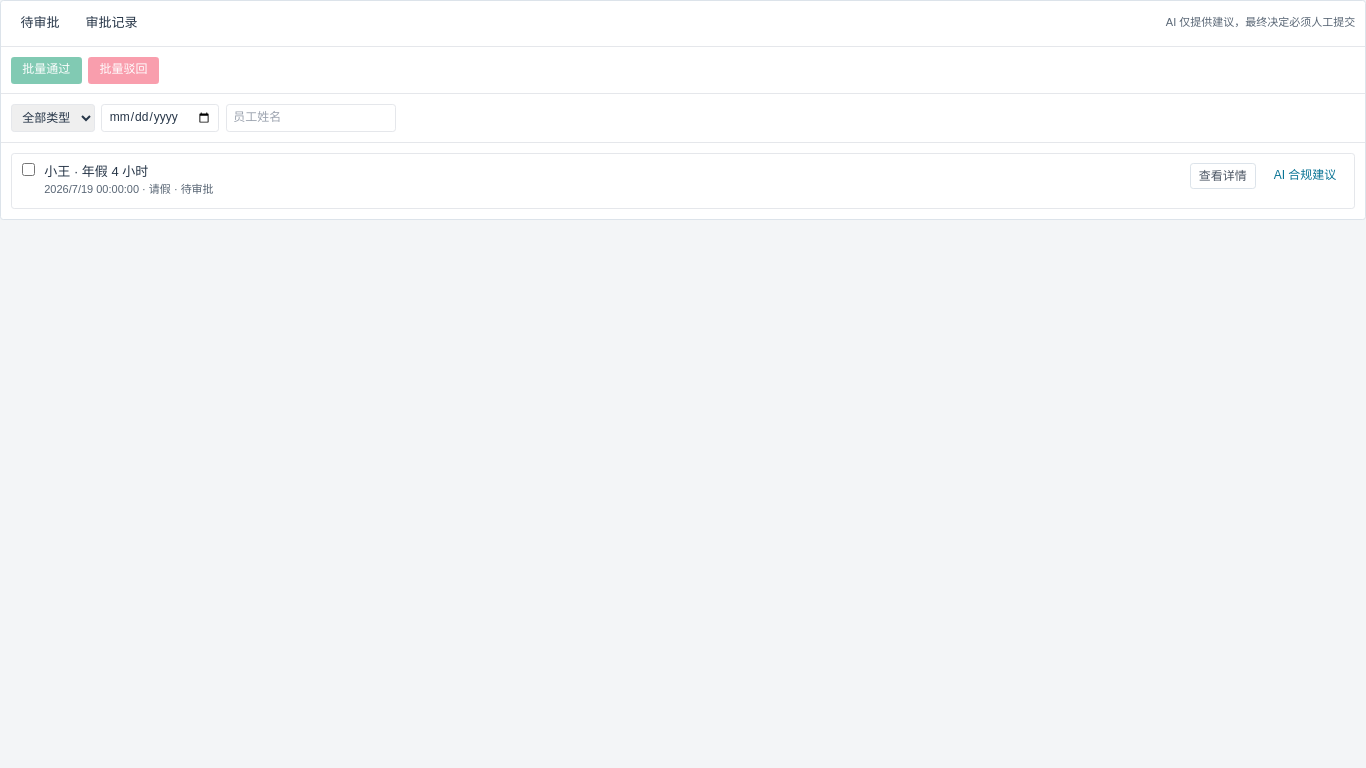
Test case: keeps historical rows immutable and requires a rejection reason dialog
Step 1. Click the tab "审批记录" → [112, 23], box [76,11,147,36]
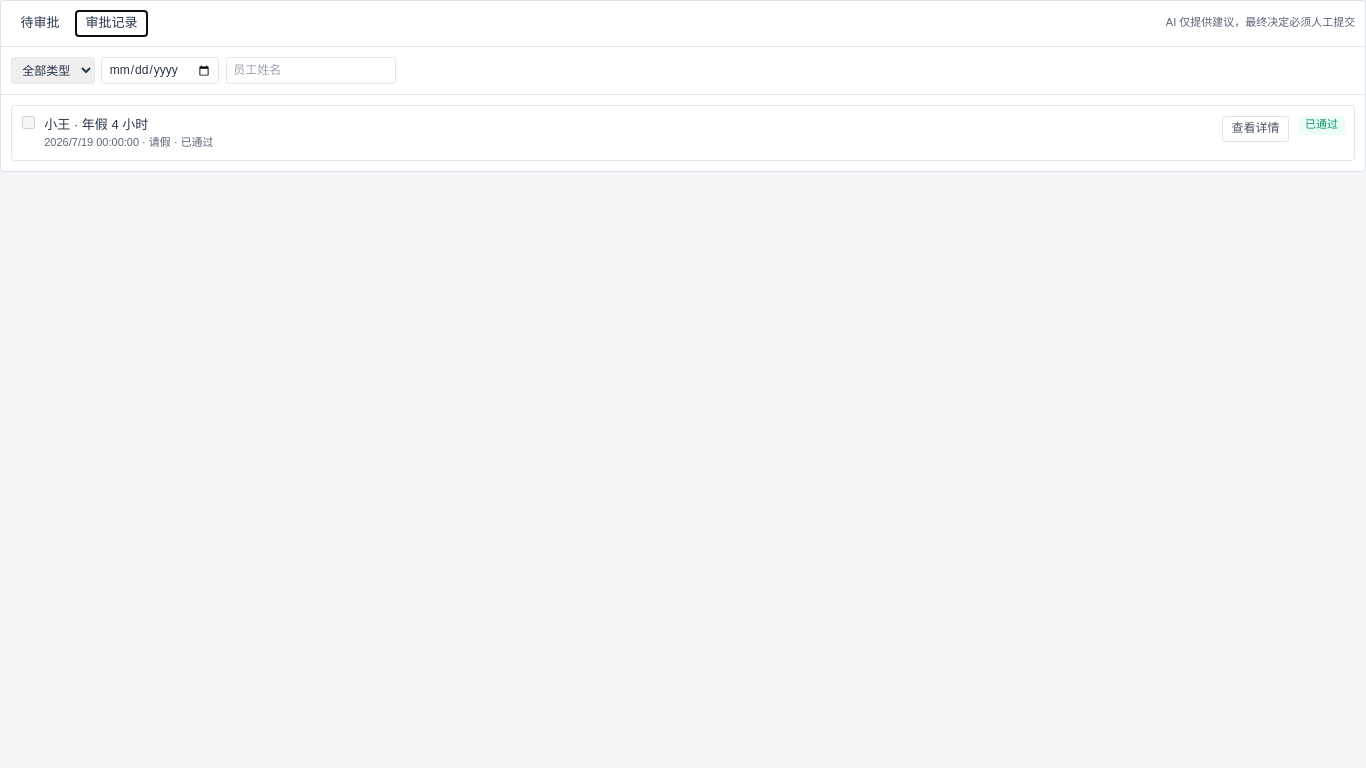
Check: the checkbox named "l2" is disabled, box [22,116,34,129]
Step 2. Click the tab "待审批" → [40, 23], box [11,11,69,36]
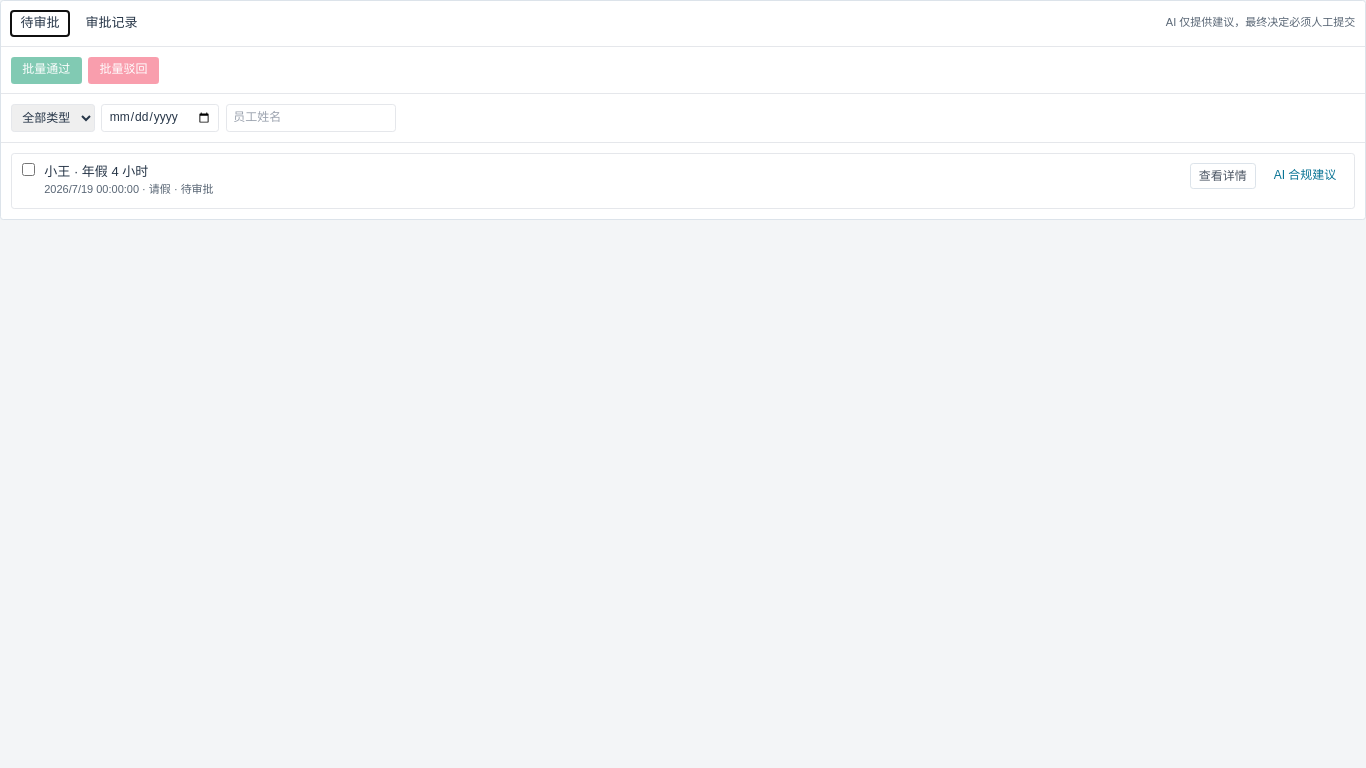
Step 3. Click the checkbox named "l1" → [28, 170], box [22,163,34,176]
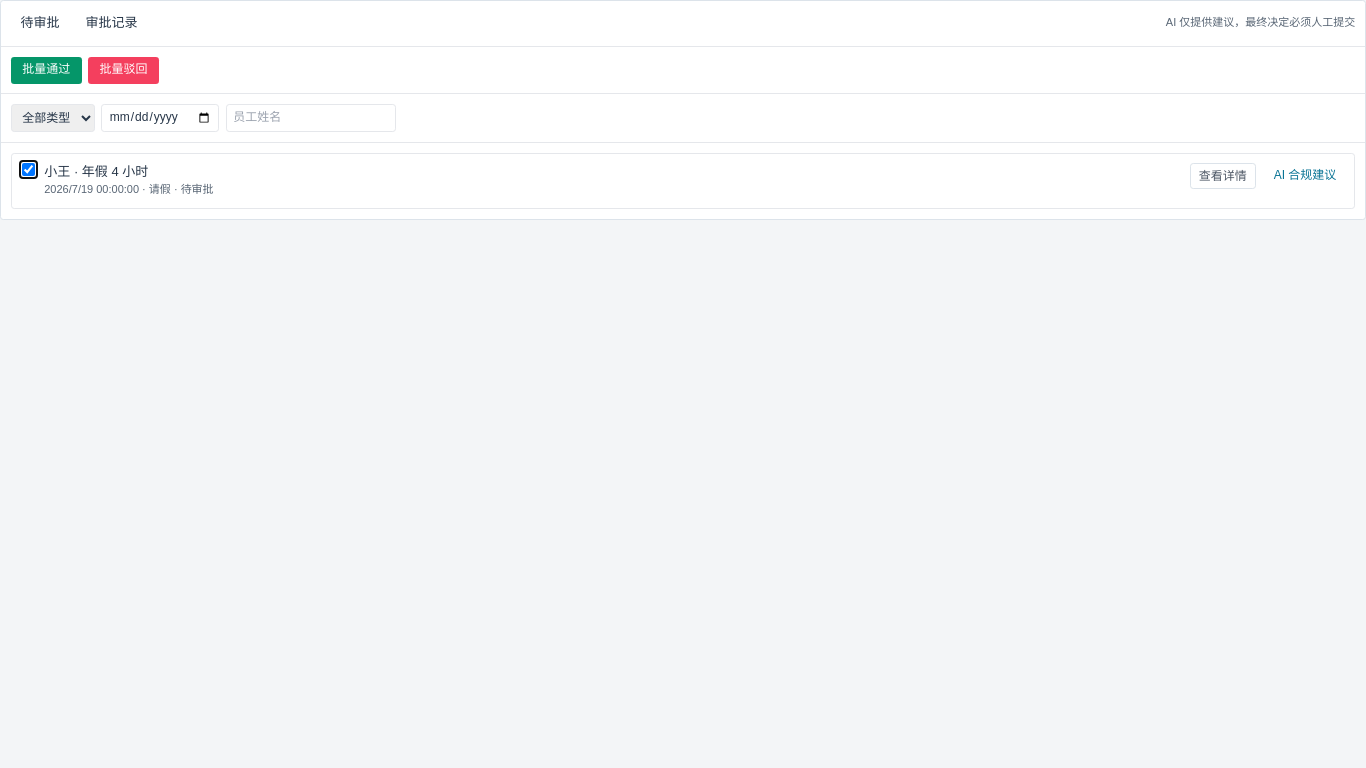
Step 4. Click the button "批量驳回" → [123, 70], box [88,57,159,84]
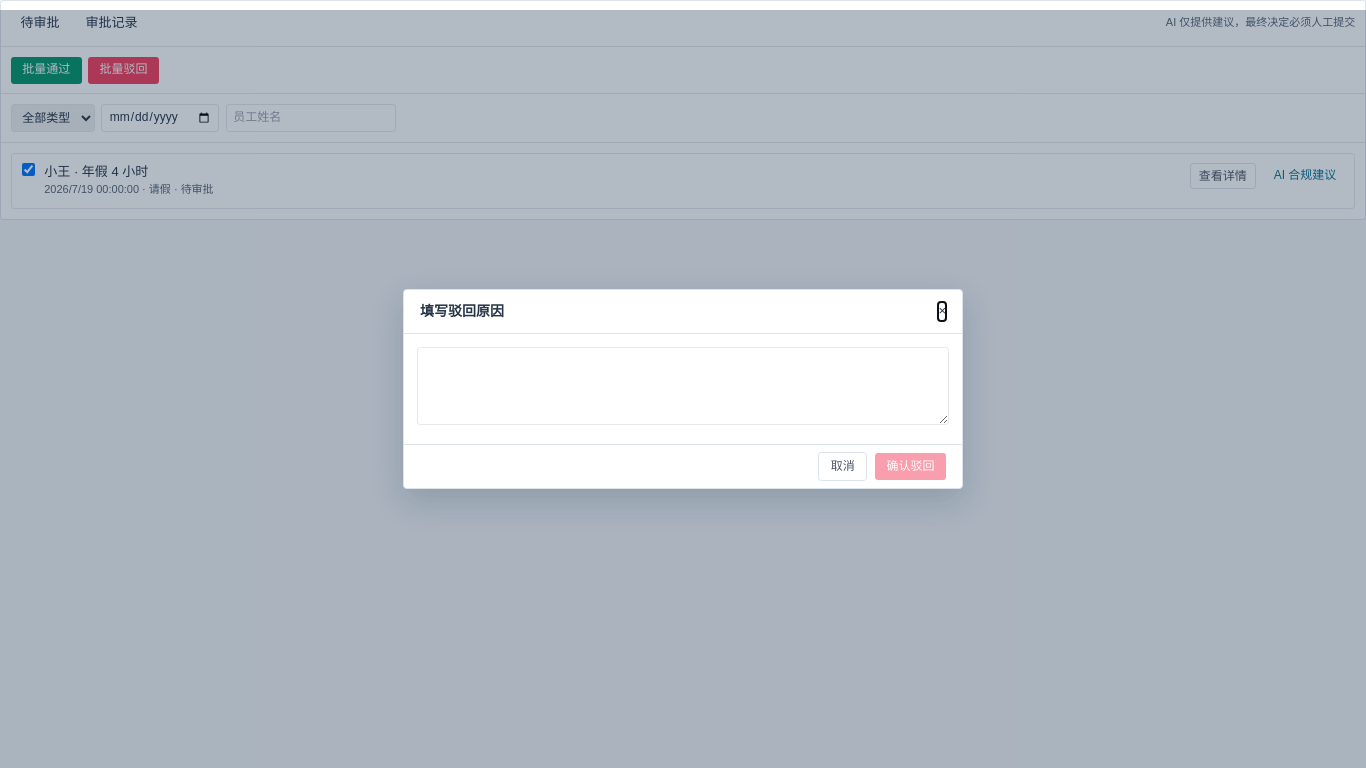
Check: the dialog "填写驳回原因" is shown, box [403,289,963,489]
